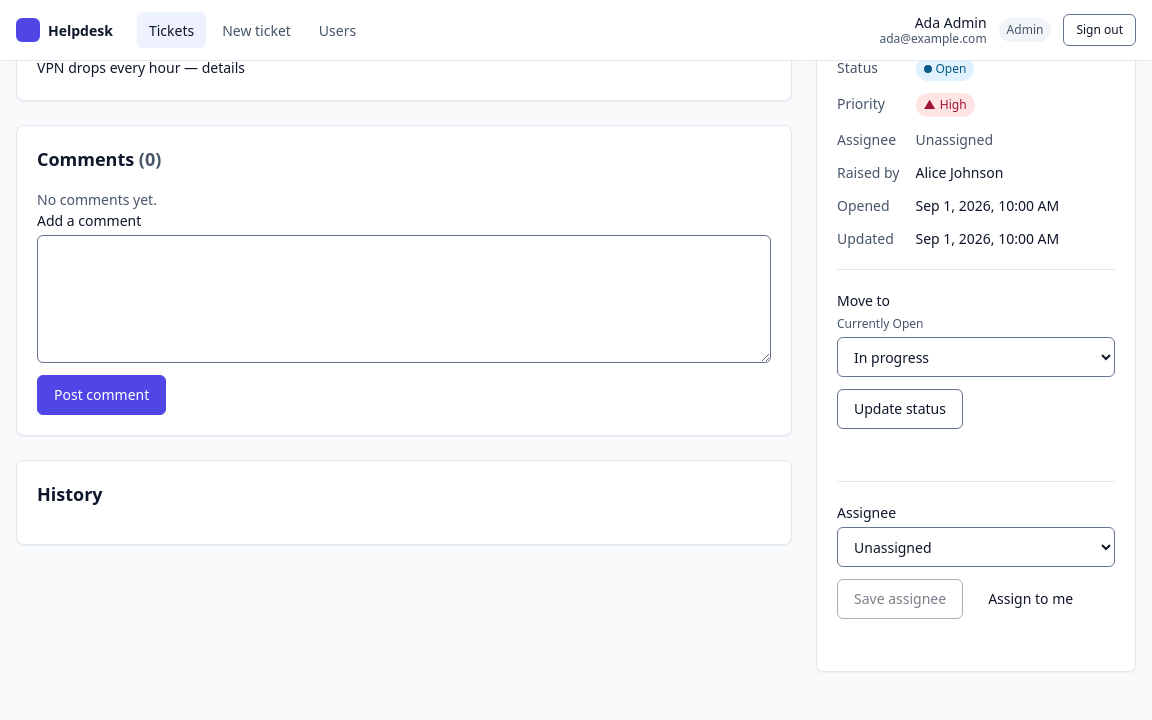
Scenario: AdminTicketPanel › assigns the ticket to the current admin in one click
(page scrolled)
Click the button "Assign to me".
click(1031, 599)  # box [971,579,1090,619]
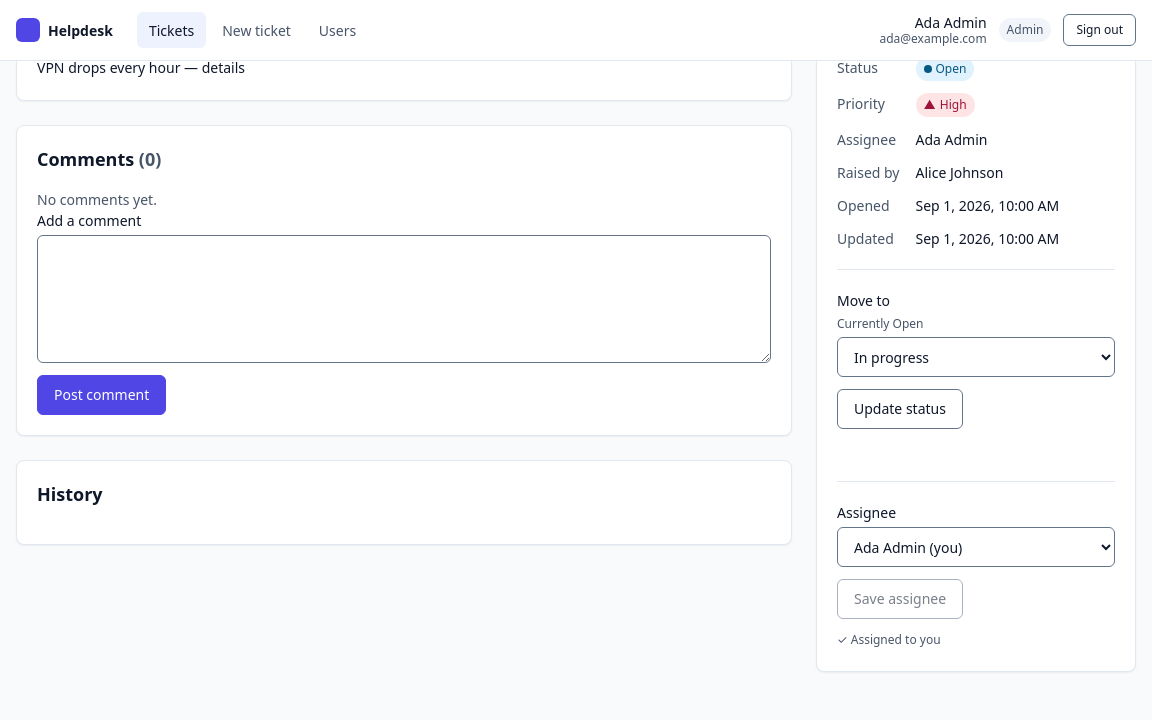
Now the text "✓ Assigned to you" is shown, box [837,631,941,648]
Now the button "Assign to me" is gone
